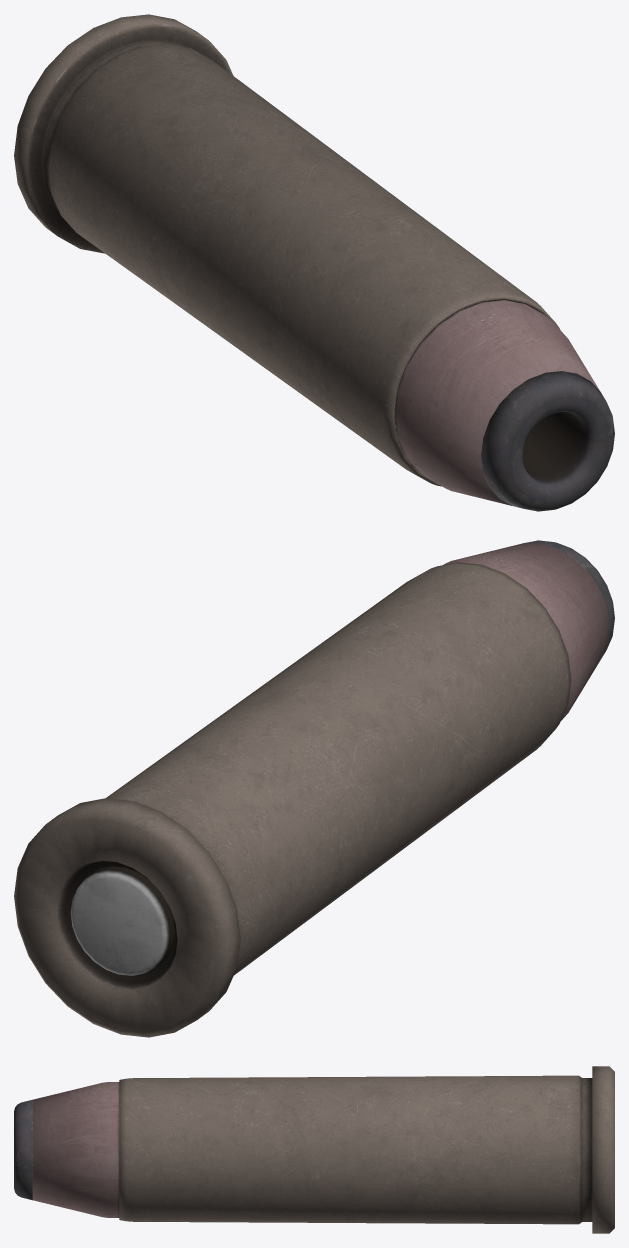
3 renders of one model, top to bottom at view 1: azimuth 30°, elevation 25°; view 2: azimuth 150°, elevation 25°; view 3: azimuth 270°, elevation 25°, orthographic. The views are drawn at different scales.
Parts seen in each view (by area): view 1: LP; view 2: LP; view 3: LP.
Part boxes in pixels (<box>): LP: <box>14,14,614,511</box>; LP: <box>14,540,614,1037</box>; LP: <box>14,1066,614,1233</box>.
Bounding box in the file's own units: 1.12 × 1.12 × 4.
1 material, 1 textured.
